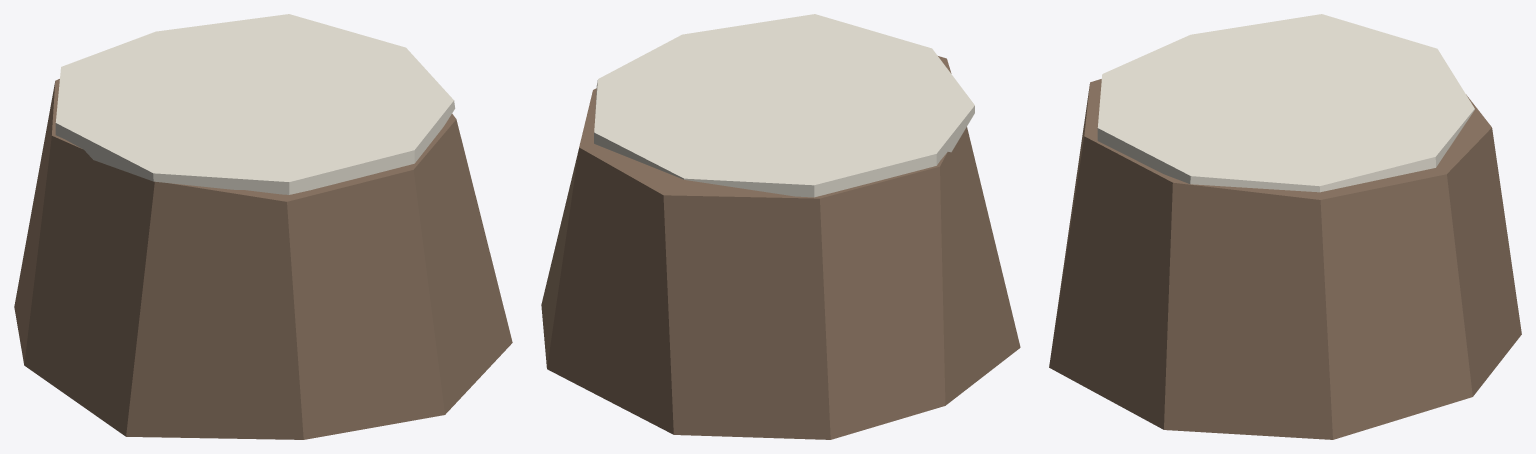
The model's file is Stump.glb.
3 views of the same model, side by side, from view 1: azimuth 30°, elevation 25°; view 2: azimuth 150°, elevation 25°; view 3: azimuth 270°, elevation 25° (orthographic). The views are drawn at different scales.
Parts seen in each view (by area): view 1: Stump; view 2: Stump; view 3: Stump.
Boxes of the visible parts, x1,y1,x2,y2 form: Stump: [14, 14, 512, 439]; Stump: [541, 14, 1020, 439]; Stump: [1049, 14, 1521, 439].
Size of the model in its own units: 1.05 by 0.607 by 1.07.
